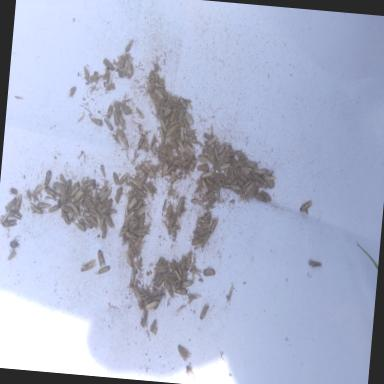pbw: (176, 344, 192, 364), (164, 122, 180, 141), (80, 259, 97, 275), (298, 200, 313, 218), (80, 215, 96, 231), (66, 200, 82, 216), (174, 196, 186, 217), (100, 104, 114, 122), (198, 302, 210, 322), (88, 214, 100, 234), (144, 298, 161, 312), (232, 148, 249, 162), (196, 154, 213, 168), (12, 194, 24, 213), (96, 249, 108, 268), (72, 218, 88, 232), (113, 186, 124, 206), (111, 110, 122, 130), (28, 205, 44, 218), (132, 285, 144, 302), (1, 219, 18, 231), (59, 209, 71, 226), (150, 271, 162, 288), (116, 114, 127, 132), (183, 110, 194, 128), (102, 58, 116, 72), (253, 192, 268, 205), (165, 138, 180, 151), (95, 265, 111, 277), (136, 172, 148, 188), (257, 190, 273, 202), (68, 183, 80, 199), (74, 192, 86, 208), (81, 177, 97, 189), (4, 196, 16, 212), (136, 132, 146, 151), (178, 125, 188, 144), (245, 186, 258, 200), (201, 190, 214, 204), (135, 204, 148, 218), (162, 103, 172, 121), (158, 118, 168, 136), (104, 199, 114, 217), (218, 161, 233, 173), (261, 168, 276, 180), (126, 196, 138, 211), (166, 212, 177, 228), (232, 160, 248, 171), (244, 180, 255, 196), (129, 264, 137, 286), (160, 161, 169, 180), (209, 219, 219, 236), (0, 209, 10, 226), (177, 97, 190, 110), (124, 231, 137, 244), (141, 183, 154, 196), (52, 182, 65, 195), (10, 210, 24, 222), (118, 172, 130, 186), (100, 188, 112, 202), (47, 204, 61, 216), (102, 118, 114, 132), (112, 101, 124, 115), (132, 227, 150, 236), (158, 126, 167, 144), (185, 136, 201, 146), (173, 287, 189, 297), (164, 284, 174, 300), (172, 268, 182, 284), (244, 160, 260, 170), (176, 140, 186, 156), (78, 200, 90, 213), (3, 206, 15, 219), (118, 225, 130, 238), (152, 88, 165, 100), (7, 248, 18, 262), (127, 58, 134, 80), (89, 117, 103, 128), (105, 214, 116, 228), (32, 184, 46, 195), (140, 310, 148, 329), (44, 169, 52, 188), (199, 178, 209, 193), (98, 164, 108, 179), (206, 136, 218, 148), (124, 210, 136, 222), (225, 145, 233, 163), (35, 201, 51, 210), (186, 250, 193, 270), (240, 166, 254, 176), (254, 166, 268, 176), (98, 214, 106, 231), (86, 180, 97, 192), (122, 58, 128, 80), (169, 170, 177, 186), (150, 318, 158, 334), (82, 67, 90, 83), (100, 223, 107, 241), (60, 205, 74, 214), (228, 182, 242, 191), (136, 198, 144, 213), (112, 172, 120, 187), (254, 181, 266, 191), (66, 86, 76, 98), (44, 188, 59, 196), (200, 171, 213, 180), (184, 128, 198, 136), (180, 280, 194, 288), (104, 68, 111, 84), (262, 174, 276, 182), (212, 145, 220, 159), (308, 260, 322, 268), (202, 142, 210, 156), (58, 174, 67, 186), (155, 98, 161, 116), (82, 212, 97, 219), (125, 40, 133, 53), (190, 198, 203, 206), (216, 186, 222, 203), (128, 176, 138, 186), (184, 145, 195, 154), (196, 218, 210, 225), (156, 74, 164, 86), (202, 132, 213, 140), (93, 192, 98, 209), (218, 143, 225, 155), (153, 82, 163, 89), (43, 196, 57, 201), (181, 268, 186, 282), (98, 207, 106, 214), (57, 200, 62, 210)
